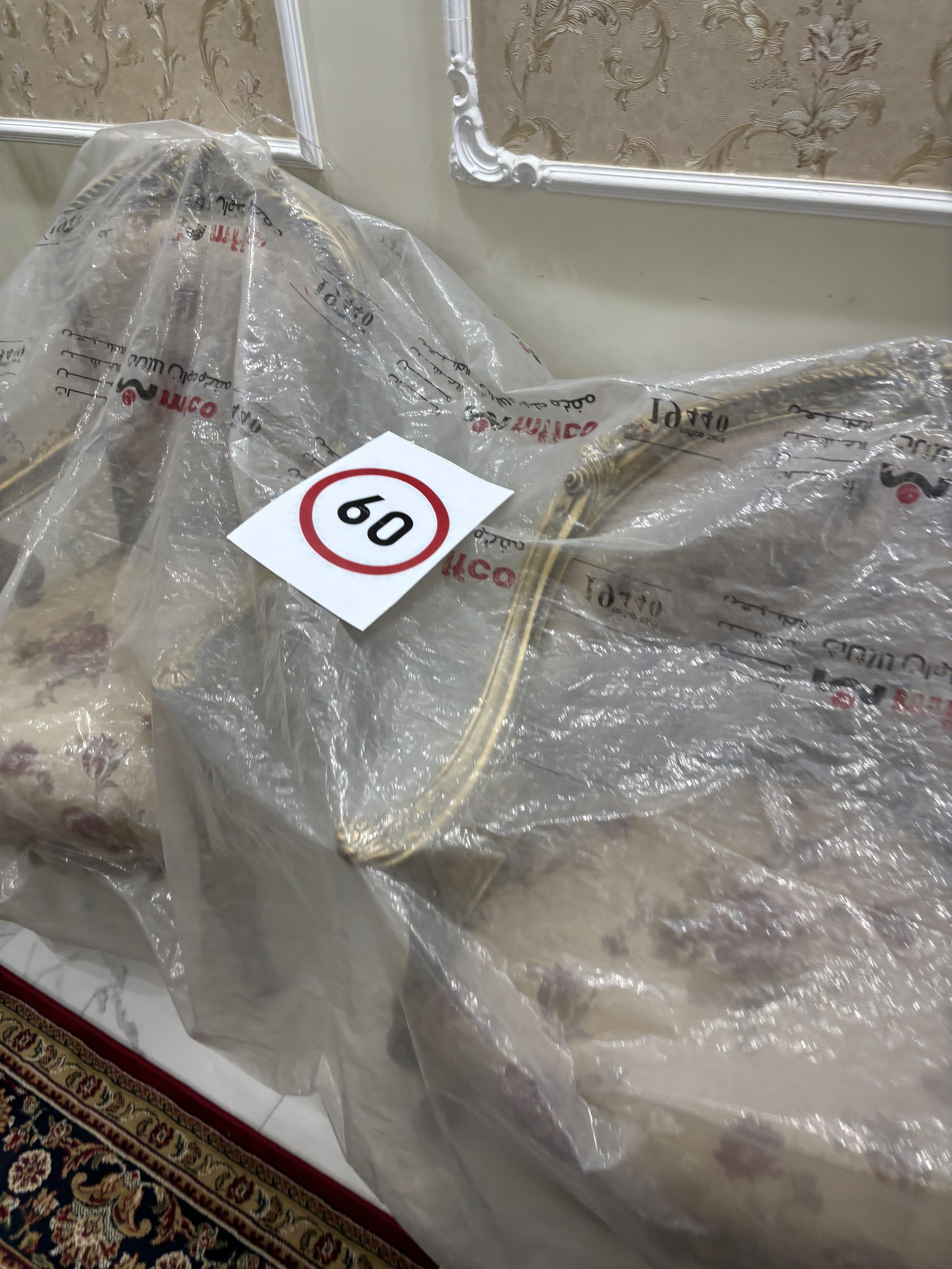60-Speed: (296, 465, 452, 575)
